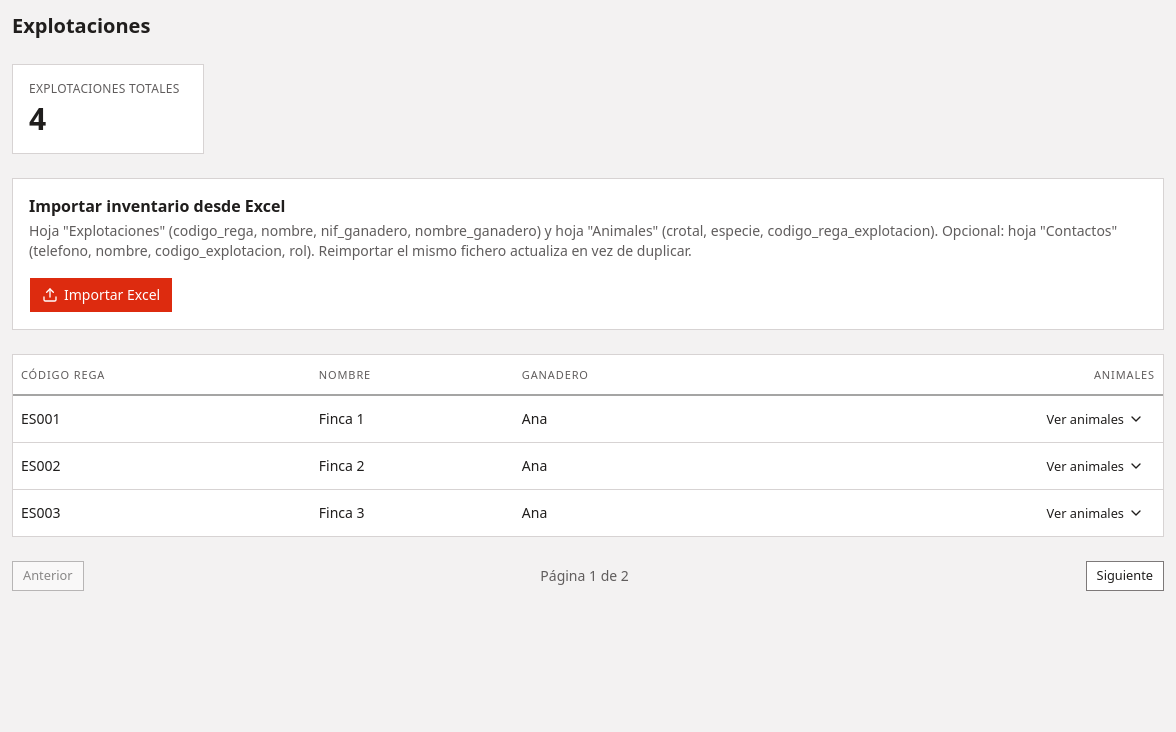
Test: ExplotacionesPage: 'Ver animales' por fila (H1-A) › cambiar de página del listado pliega los paneles abiertos
This screenshot has width=1176, height=732.
Check: the text "ES001" is shown, box [13, 395, 311, 442]
Click the button with aria-label "Ver animales de ES001" at (1095, 419), box [1036, 404, 1155, 434]
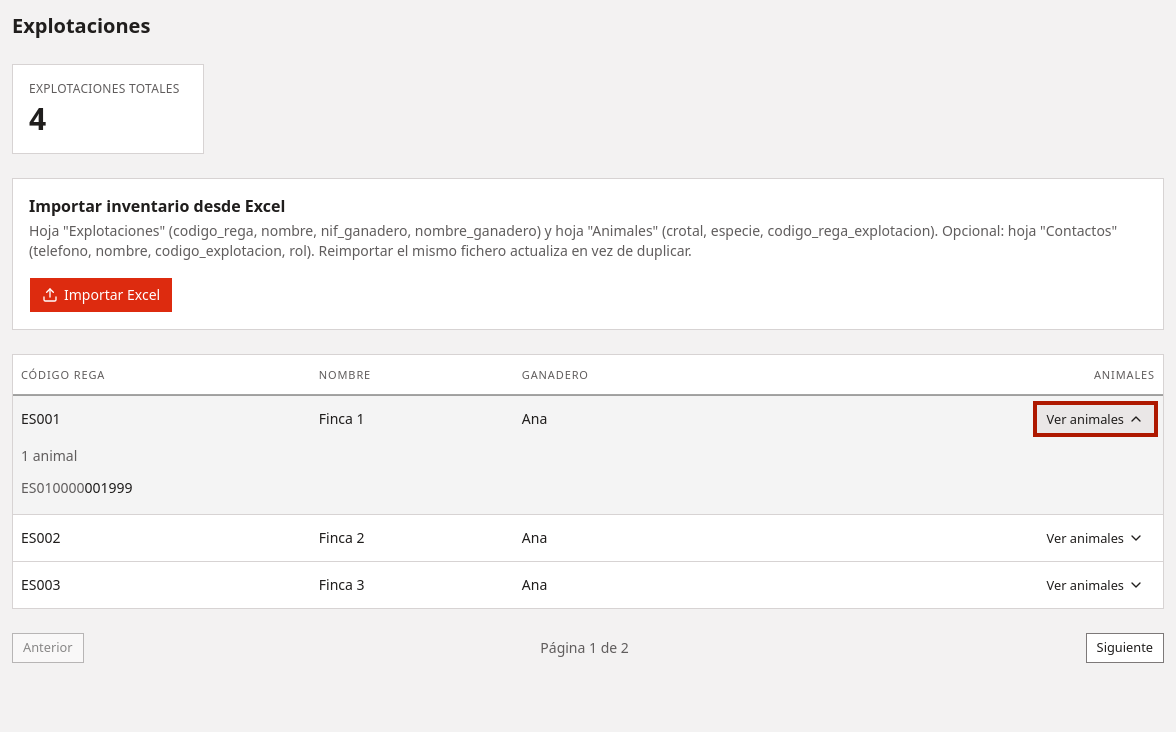
Check: the list named "Crotales" is shown, box [21, 478, 133, 497]
Click the button "Siguiente" at (1125, 648), box [1086, 633, 1164, 663]
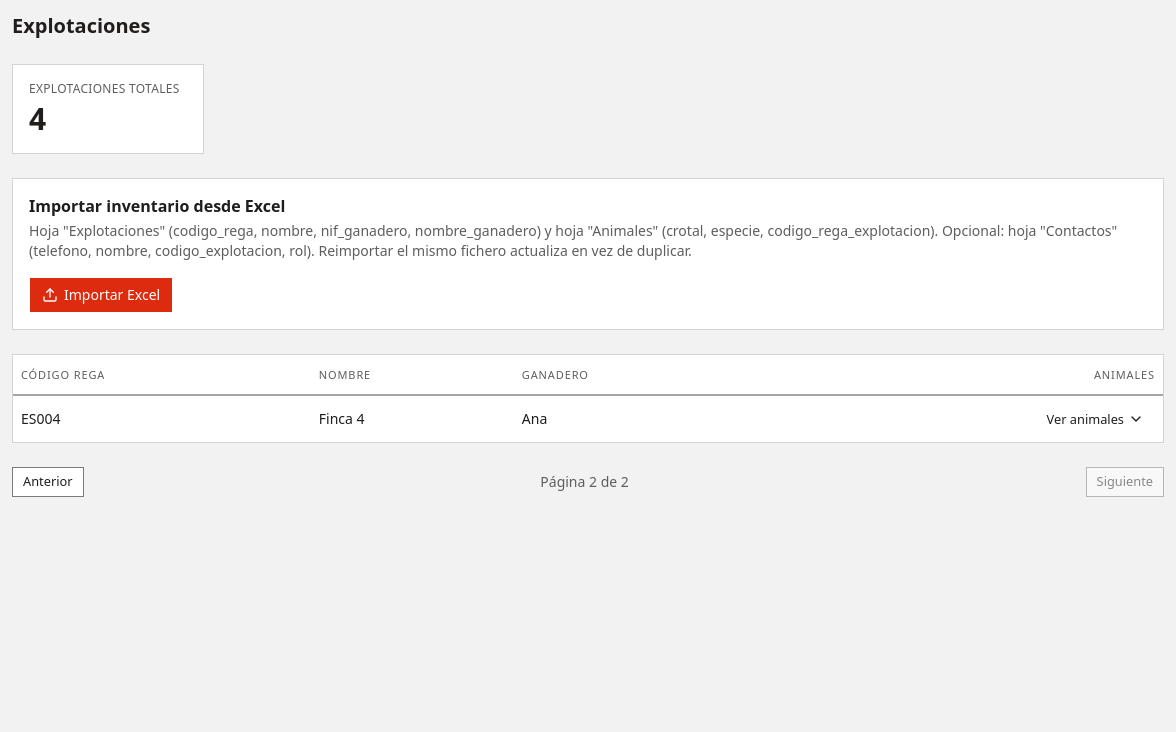
Check: the text "ES004" is shown, box [13, 395, 311, 442]
Click the button "Anterior" at (48, 482), box [12, 467, 84, 497]
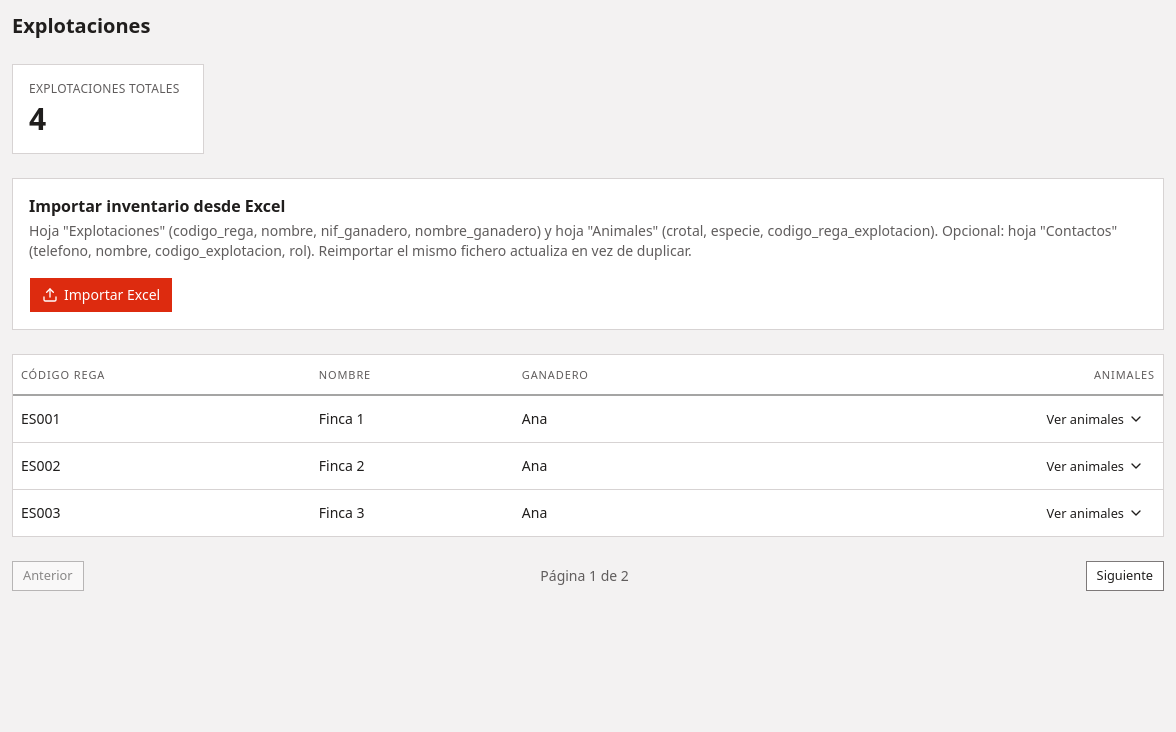
Check: the button with aria-label "Ver animales de ES001" is collapsed, box [1036, 404, 1155, 434]
Check: the text "ES001" is shown, box [13, 395, 311, 442]
